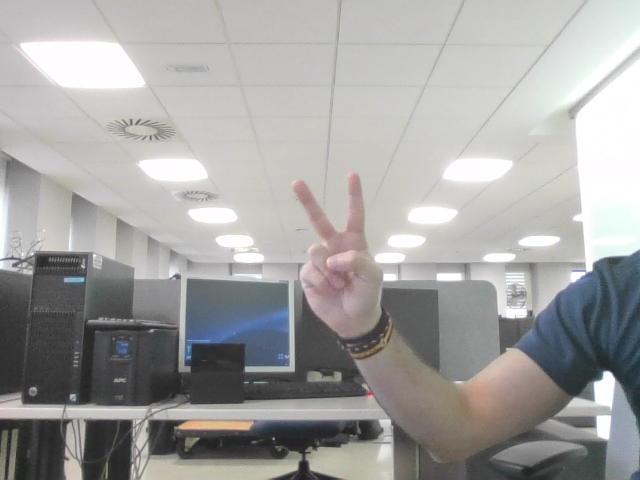2Dedos: (302, 184, 368, 294)
